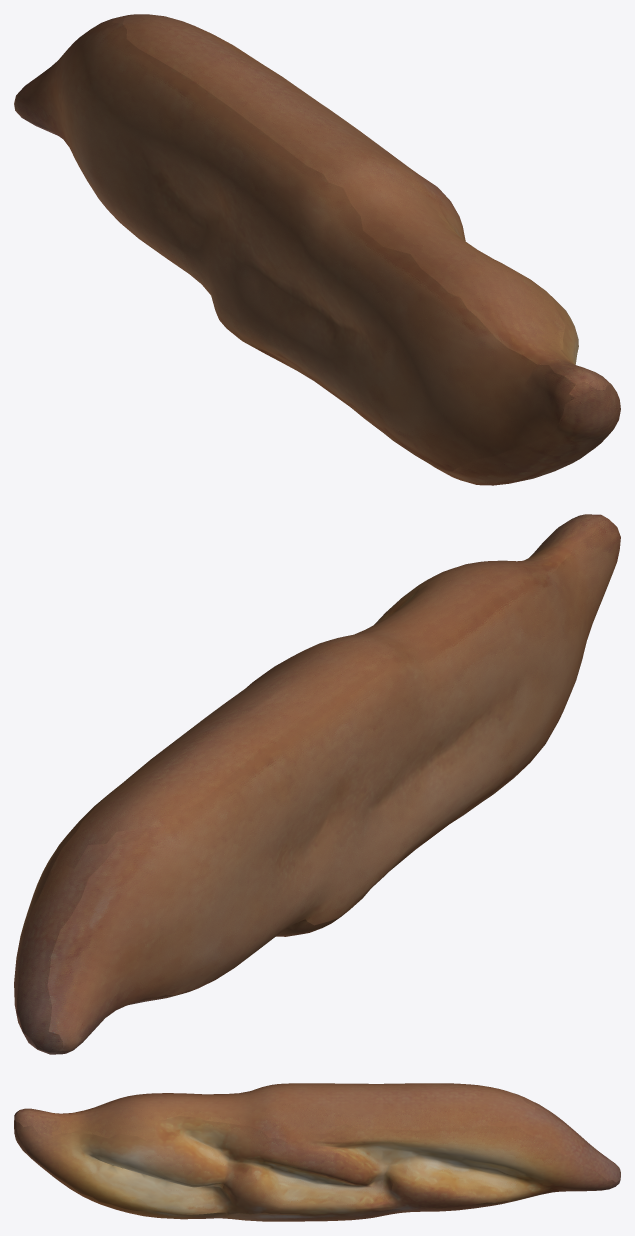
File: baguette.obj
3 views of the same model, one above another, from view 1: azimuth 30°, elevation 25°; view 2: azimuth 150°, elevation 25°; view 3: azimuth 270°, elevation 25° (orthographic). The views are drawn at different scales.
Bounding box in the file's own units: 0.0661 × 0.0842 × 0.3645.
1 material, 1 textured.
